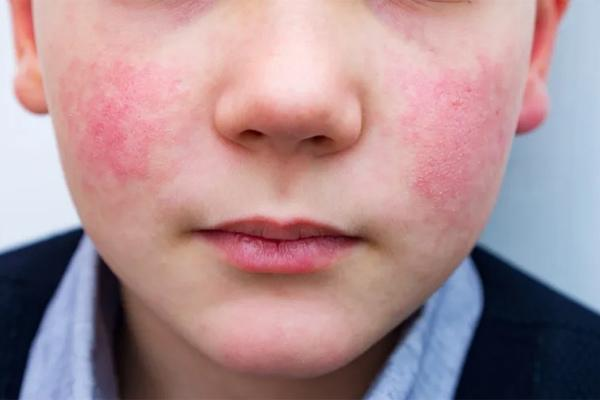Skin-Redness: (406, 57, 508, 243), (56, 53, 161, 194)
